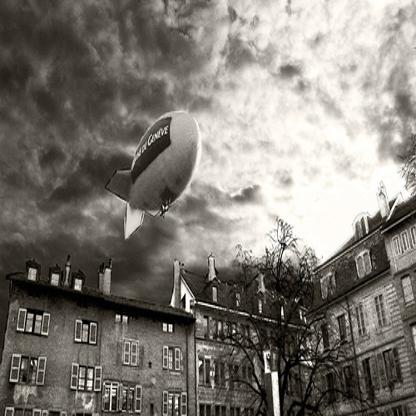Airship: (108, 107, 202, 244)
